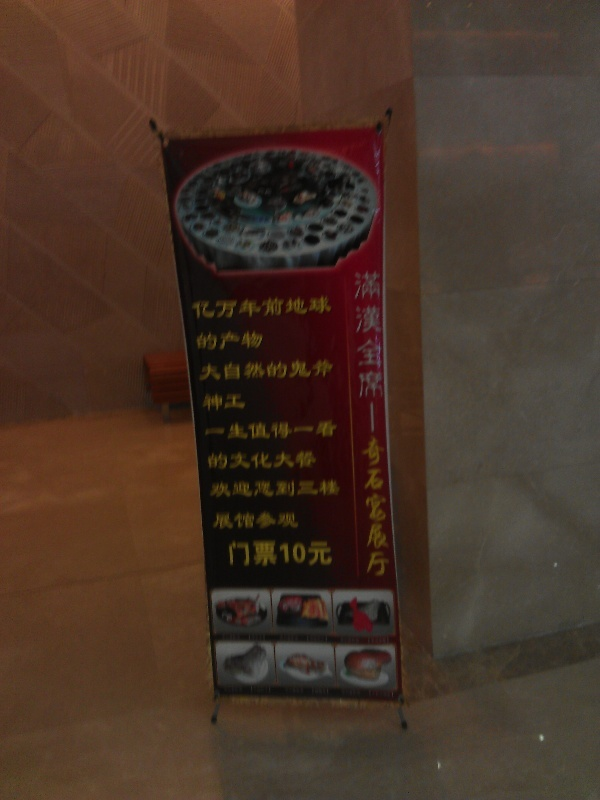text: (369, 436, 384, 577), (369, 270, 385, 400), (354, 270, 368, 400), (385, 436, 393, 577), (361, 436, 368, 577), (241, 538, 256, 569), (257, 538, 272, 569), (273, 538, 288, 569), (289, 538, 304, 569), (305, 538, 320, 569), (193, 294, 208, 322), (209, 294, 224, 322), (225, 294, 240, 322), (241, 294, 256, 322), (257, 294, 272, 322), (273, 294, 288, 322), (289, 294, 304, 322), (305, 294, 320, 322), (321, 538, 334, 569), (228, 538, 240, 569), (209, 358, 224, 382), (225, 358, 240, 382), (241, 358, 256, 382), (257, 358, 272, 382), (273, 358, 288, 382), (289, 358, 304, 382), (305, 358, 320, 382), (209, 448, 224, 472), (225, 448, 240, 472), (241, 448, 256, 472), (257, 448, 272, 472), (273, 448, 288, 472), (289, 448, 304, 472), (209, 419, 224, 442), (225, 419, 240, 442), (241, 419, 256, 442), (257, 419, 272, 442), (273, 419, 288, 442), (289, 419, 304, 442), (305, 419, 320, 442), (321, 419, 336, 442), (209, 329, 224, 352), (225, 329, 240, 352), (241, 329, 256, 352), (321, 294, 333, 322), (321, 358, 335, 382), (225, 478, 240, 500), (241, 478, 256, 500), (257, 478, 272, 500), (273, 478, 288, 500), (289, 478, 304, 500), (305, 478, 320, 500), (321, 478, 336, 500), (209, 391, 224, 412), (225, 391, 240, 412), (305, 448, 318, 472), (210, 478, 224, 500), (225, 511, 240, 531), (241, 511, 256, 531), (257, 511, 272, 531), (273, 511, 288, 531), (195, 329, 208, 352), (289, 511, 300, 531), (199, 358, 208, 382), (214, 511, 224, 531), (257, 329, 265, 352), (241, 391, 247, 412), (203, 391, 208, 412), (204, 419, 208, 442), (337, 478, 341, 500), (337, 419, 339, 442), (207, 448, 208, 472)
